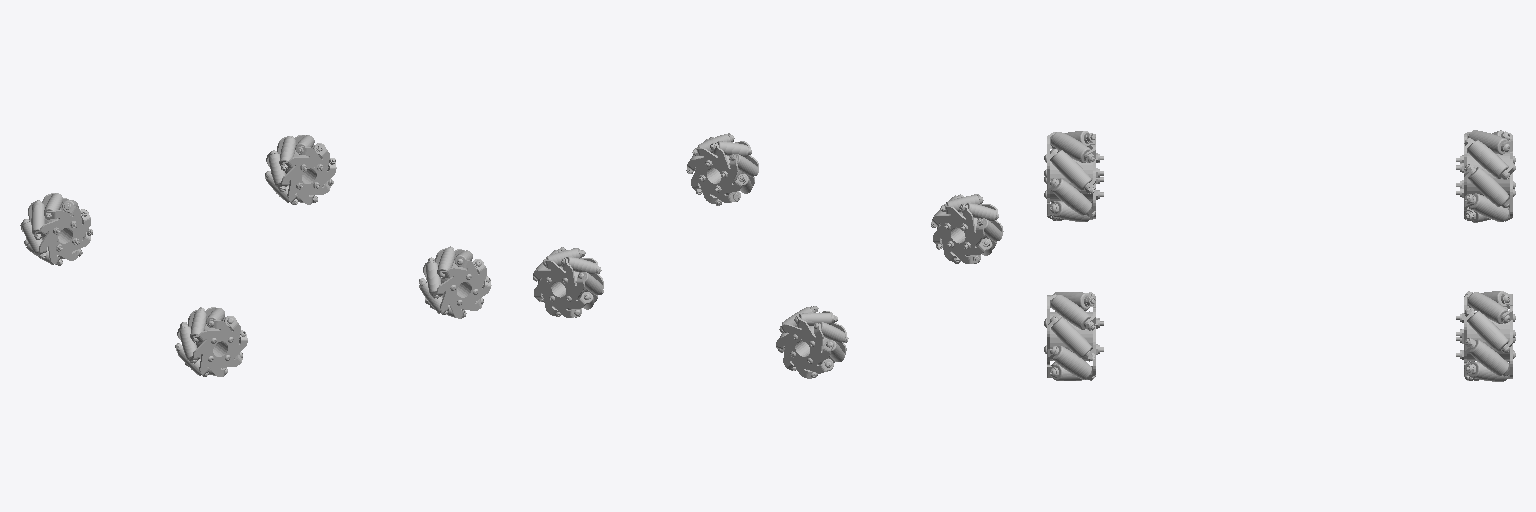
URDF robot description (coba2):
<?xml version="1.0" encoding="utf-8"?>
<!-- This URDF was automatically created by SolidWorks to URDF Exporter! Originally created by [author] ([email redacted]) 
     Commit Version: 1.6.0-4-g7f85cfe  Build Version: 1.6.7995.38578
     For more information, please see http://wiki.ros.org/sw_urdf_exporter -->
<robot
  name="coba2">
  <link
    name="base_link">
    <inertial>
      <origin
        xyz="-0.0060166762532463 8.9129940104581E-08 0.12807893088727"
        rpy="0 0 0" />
      <mass
        value="45.3758520944155" />
      <inertia
        ixx="0.744970811759371"
        ixy="1.05348354286451E-06"
        ixz="0.0101713592661191"
        iyy="1.29692340687596"
        iyz="-4.79450564512486E-07"
        izz="1.6330706670946" />
    </inertial>
    <visual>
      <origin
        xyz="0 0 0"
        rpy="0 0 0" />
      <geometry>
        <mesh
          filename="package://coba2/meshes/base_link.STL" />
      </geometry>
      <material
        name="">
        <color
          rgba="0.792156862745098 0.819607843137255 0.933333333333333 1" />
      </material>
    </visual>
    <collision>
      <origin
        xyz="0 0 0"
        rpy="0 0 0" />
      <geometry>
        <mesh
          filename="package://coba2/meshes/base_link.STL" />
      </geometry>
    </collision>
  </link>
  <link
    name="front_wl">
    <inertial>
      <origin
        xyz="0.1625 0.178772924632851 0.0279999999999998"
        rpy="0 0 0" />
      <mass
        value="0.116774645151429" />
      <inertia
        ixx="2.21422284339803E-05"
        ixy="1.13148372324122E-17"
        ixz="3.03499487920987E-18"
        iyy="2.68140883577402E-05"
        iyz="-1.00838642356266E-17"
        izz="2.21422284339789E-05" />
    </inertial>
    <visual>
      <origin
        xyz="0 0 0"
        rpy="0 0 0" />
      <geometry>
        <mesh
          filename="package://coba2/meshes/front_wl.STL" />
      </geometry>
      <material
        name="">
        <color
          rgba="0.752941176470588 0.752941176470588 0.752941176470588 1" />
      </material>
    </visual>
    <collision>
      <origin
        xyz="0 0 0"
        rpy="0 0 0" />
      <geometry>
        <mesh
          filename="package://coba2/meshes/front_wl.STL" />
      </geometry>
    </collision>
  </link>
  <joint
    name="front_jl"
    type="revolute">
    <origin
      xyz="0 0 0"
      rpy="0 0 0" />
    <parent
      link="base_link" />
    <child
      link="front_wl" />
    <axis
      xyz="0 1 0" />
    <limit
      lower="0"
      upper="0"
      effort="0"
      velocity="0" />
  </joint>
  <link
    name="rear_wl">
    <inertial>
      <origin
        xyz="-0.162500000000001 0.178772924632625 0.0279999999999995"
        rpy="0 0 0" />
      <mass
        value="0.116774645154449" />
      <inertia
        ixx="2.214222843399E-05"
        ixy="-1.27081340006431E-17"
        ixz="8.52717203176794E-19"
        iyy="2.68140883577964E-05"
        iyz="1.16128439825719E-17"
        izz="2.21422284339904E-05" />
    </inertial>
    <visual>
      <origin
        xyz="0 0 0"
        rpy="0 0 0" />
      <geometry>
        <mesh
          filename="package://coba2/meshes/rear_wl.STL" />
      </geometry>
      <material
        name="">
        <color
          rgba="0.752941176470588 0.752941176470588 0.752941176470588 1" />
      </material>
    </visual>
    <collision>
      <origin
        xyz="0 0 0"
        rpy="0 0 0" />
      <geometry>
        <mesh
          filename="package://coba2/meshes/rear_wl.STL" />
      </geometry>
    </collision>
  </link>
  <joint
    name="rear_jl"
    type="revolute">
    <origin
      xyz="0 0 0"
      rpy="0 0 0" />
    <parent
      link="base_link" />
    <child
      link="rear_wl" />
    <axis
      xyz="0 1 0" />
    <limit
      lower="0"
      upper="0"
      effort="0"
      velocity="0" />
  </joint>
  <link
    name="front_wr">
    <inertial>
      <origin
        xyz="0.162499999999999 -0.178772924632877 0.0280000000000004"
        rpy="0 0 0" />
      <mass
        value="0.11677464515092" />
      <inertia
        ixx="2.21422284340529E-05"
        ixy="-6.36290159945635E-18"
        ixz="1.2516007293006E-18"
        iyy="2.68140883578077E-05"
        iyz="-1.8645494860417E-18"
        izz="2.21422284340375E-05" />
    </inertial>
    <visual>
      <origin
        xyz="0 0 0"
        rpy="0 0 0" />
      <geometry>
        <mesh
          filename="package://coba2/meshes/front_wr.STL" />
      </geometry>
      <material
        name="">
        <color
          rgba="0.752941176470588 0.752941176470588 0.752941176470588 1" />
      </material>
    </visual>
    <collision>
      <origin
        xyz="0 0 0"
        rpy="0 0 0" />
      <geometry>
        <mesh
          filename="package://coba2/meshes/front_wr.STL" />
      </geometry>
    </collision>
  </link>
  <joint
    name="front_jr"
    type="continuous">
    <origin
      xyz="0 0 0"
      rpy="0 0 0" />
    <parent
      link="base_link" />
    <child
      link="front_wr" />
    <axis
      xyz="0 -1 0" />
  </joint>
  <link
    name="rear_wr">
    <inertial>
      <origin
        xyz="-0.162499999999999 -0.178772924632694 0.0279999999999998"
        rpy="0 0 0" />
      <mass
        value="0.11677464515355" />
      <inertia
        ixx="2.2142228433999E-05"
        ixy="-1.09407353588938E-17"
        ixz="4.62190897977814E-18"
        iyy="2.68140883577919E-05"
        iyz="-1.20249595873749E-17"
        izz="2.21422284339989E-05" />
    </inertial>
    <visual>
      <origin
        xyz="0 0 0"
        rpy="0 0 0" />
      <geometry>
        <mesh
          filename="package://coba2/meshes/rear_wr.STL" />
      </geometry>
      <material
        name="">
        <color
          rgba="0.752941176470588 0.752941176470588 0.752941176470588 1" />
      </material>
    </visual>
    <collision>
      <origin
        xyz="0 0 0"
        rpy="0 0 0" />
      <geometry>
        <mesh
          filename="package://coba2/meshes/rear_wr.STL" />
      </geometry>
    </collision>
  </link>
  <joint
    name="rear_jr"
    type="revolute">
    <origin
      xyz="0 0 0"
      rpy="0 0 0" />
    <parent
      link="base_link" />
    <child
      link="rear_wr" />
    <axis
      xyz="0 -1 0" />
    <limit
      lower="0"
      upper="0"
      effort="30"
      velocity="30" />
  </joint>
</robot>

--- What the picture shows (computed from the rendered views, not written in the file) ---
3 views of the same robot in one strip: view 1: azimuth 30°, elevation 25°; view 2: azimuth 150°, elevation 25°; view 3: azimuth 270°, elevation 25° (orthographic).
Robot: coba2 — 5 links, 4 joints (3 revolute, 1 continuous); root link base_link; default pose: all joints at 0.
Visible links, largest first — view 1: front_wl, front_wr, rear_wl, rear_wr; view 2: front_wl, front_wr, rear_wr, rear_wl; view 3: rear_wl, rear_wr, front_wl, front_wr.
Boxes of the visible links, x1,y1,x2,y2 form: front_wl: (265,135,336,204); front_wr: (419,246,491,318); rear_wl: (20,193,92,265); rear_wr: (175,307,247,376); front_wl: (533,247,603,317); front_wr: (686,133,758,205); rear_wr: (931,194,1003,263); rear_wl: (776,306,848,378); rear_wl: (1456,130,1515,222); rear_wr: (1044,131,1103,221); front_wl: (1456,291,1515,381); front_wr: (1044,292,1103,380).
Bounding box of the posed robot: 0.4042 × 0.4044 × 0.0797 m (x, y, z).
Meshes: 5 distinct files referenced, 4 mesh visuals loaded (4 binary STL); not drawn: 1 (reference not matched to a file when rendering).